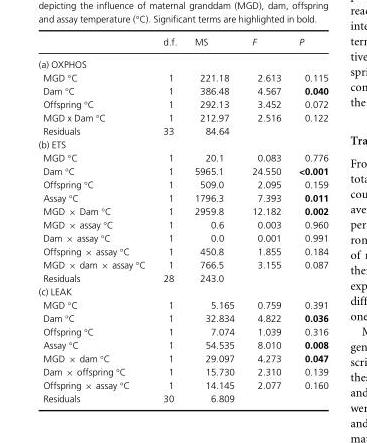table: (37, 37, 327, 403)
table column: (37, 37, 153, 403), (185, 37, 242, 403), (242, 37, 289, 403), (289, 37, 327, 403), (153, 37, 185, 403)
table column header: (37, 37, 327, 53)
table projected row header: (37, 53, 327, 70), (37, 138, 327, 150), (37, 285, 327, 297)
table row: (37, 53, 327, 70), (37, 37, 327, 53), (37, 70, 327, 84), (37, 110, 327, 124), (37, 124, 327, 138), (37, 150, 327, 164), (37, 190, 327, 204), (37, 217, 327, 231), (37, 257, 327, 271), (37, 271, 327, 285), (37, 297, 327, 311), (37, 324, 327, 338), (37, 364, 327, 378), (37, 378, 327, 392), (37, 84, 327, 97), (37, 97, 327, 110), (37, 164, 327, 177), (37, 177, 327, 190), (37, 204, 327, 217), (37, 231, 327, 244), (37, 244, 327, 257), (37, 311, 327, 324), (37, 338, 327, 351), (37, 351, 327, 364), (37, 138, 327, 150), (37, 285, 327, 297), (37, 392, 327, 403)
